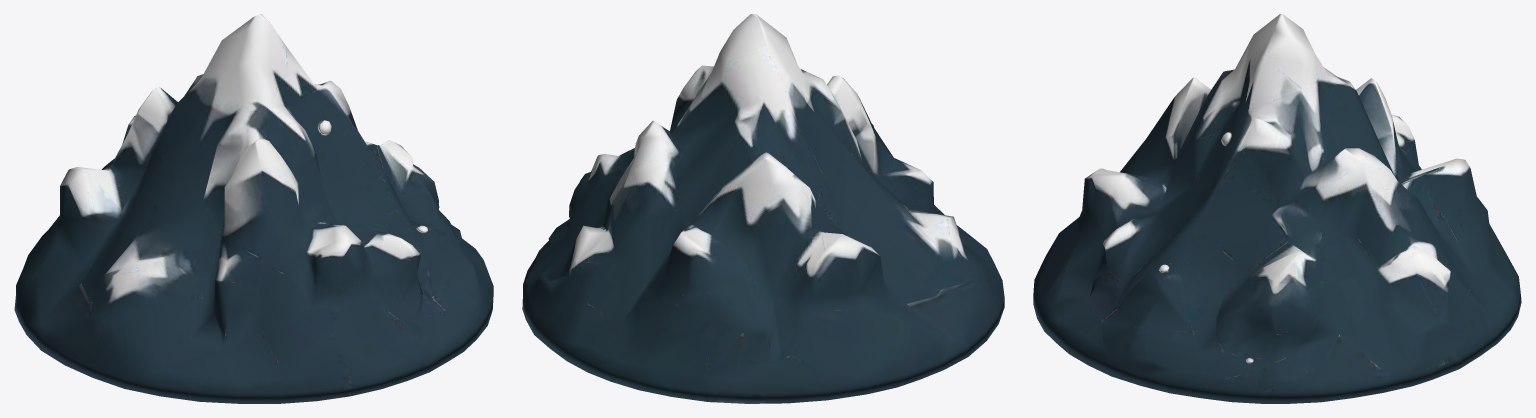
File: mini-mountains.glb
3 views of the same model, side by side, from view 1: azimuth 30°, elevation 25°; view 2: azimuth 150°, elevation 25°; view 3: azimuth 270°, elevation 25° (orthographic).
Bounding box in the file's own units: 0.9639 × 0.6318 × 0.9639.
Materials: 1 (1 with a texture image).
